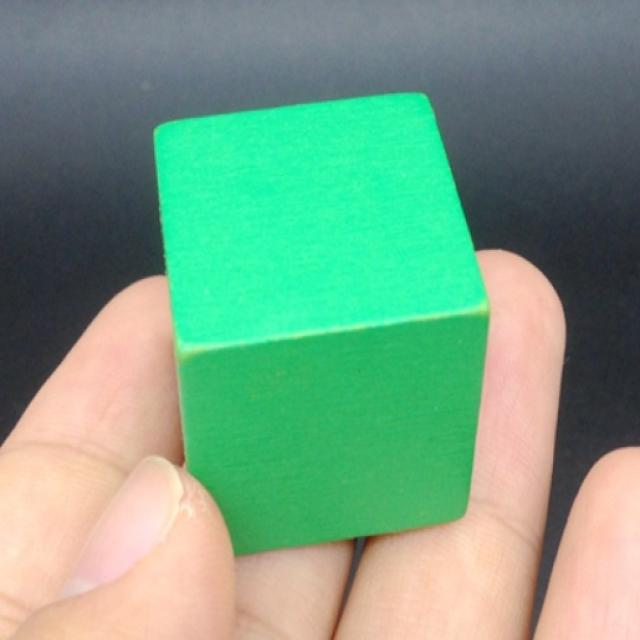green cube: (152, 92, 491, 555)
